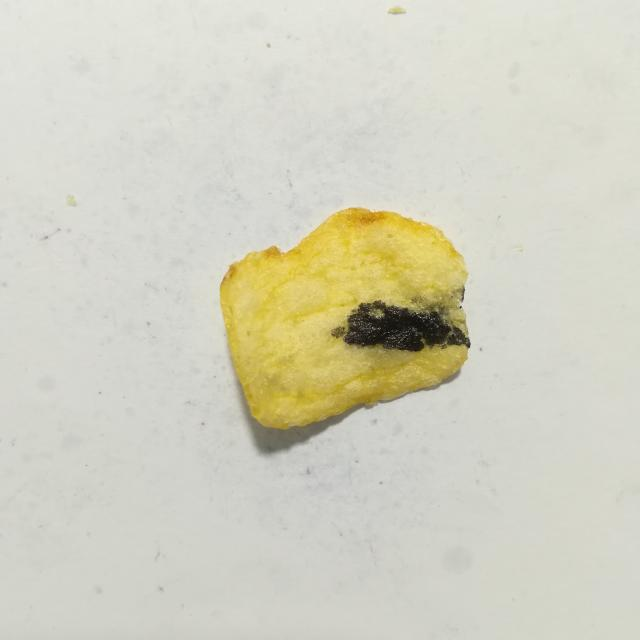chip: (220, 208, 470, 429)
damaged: (343, 301, 470, 352)
semi-damaged: (410, 286, 468, 335), (331, 326, 346, 338)
